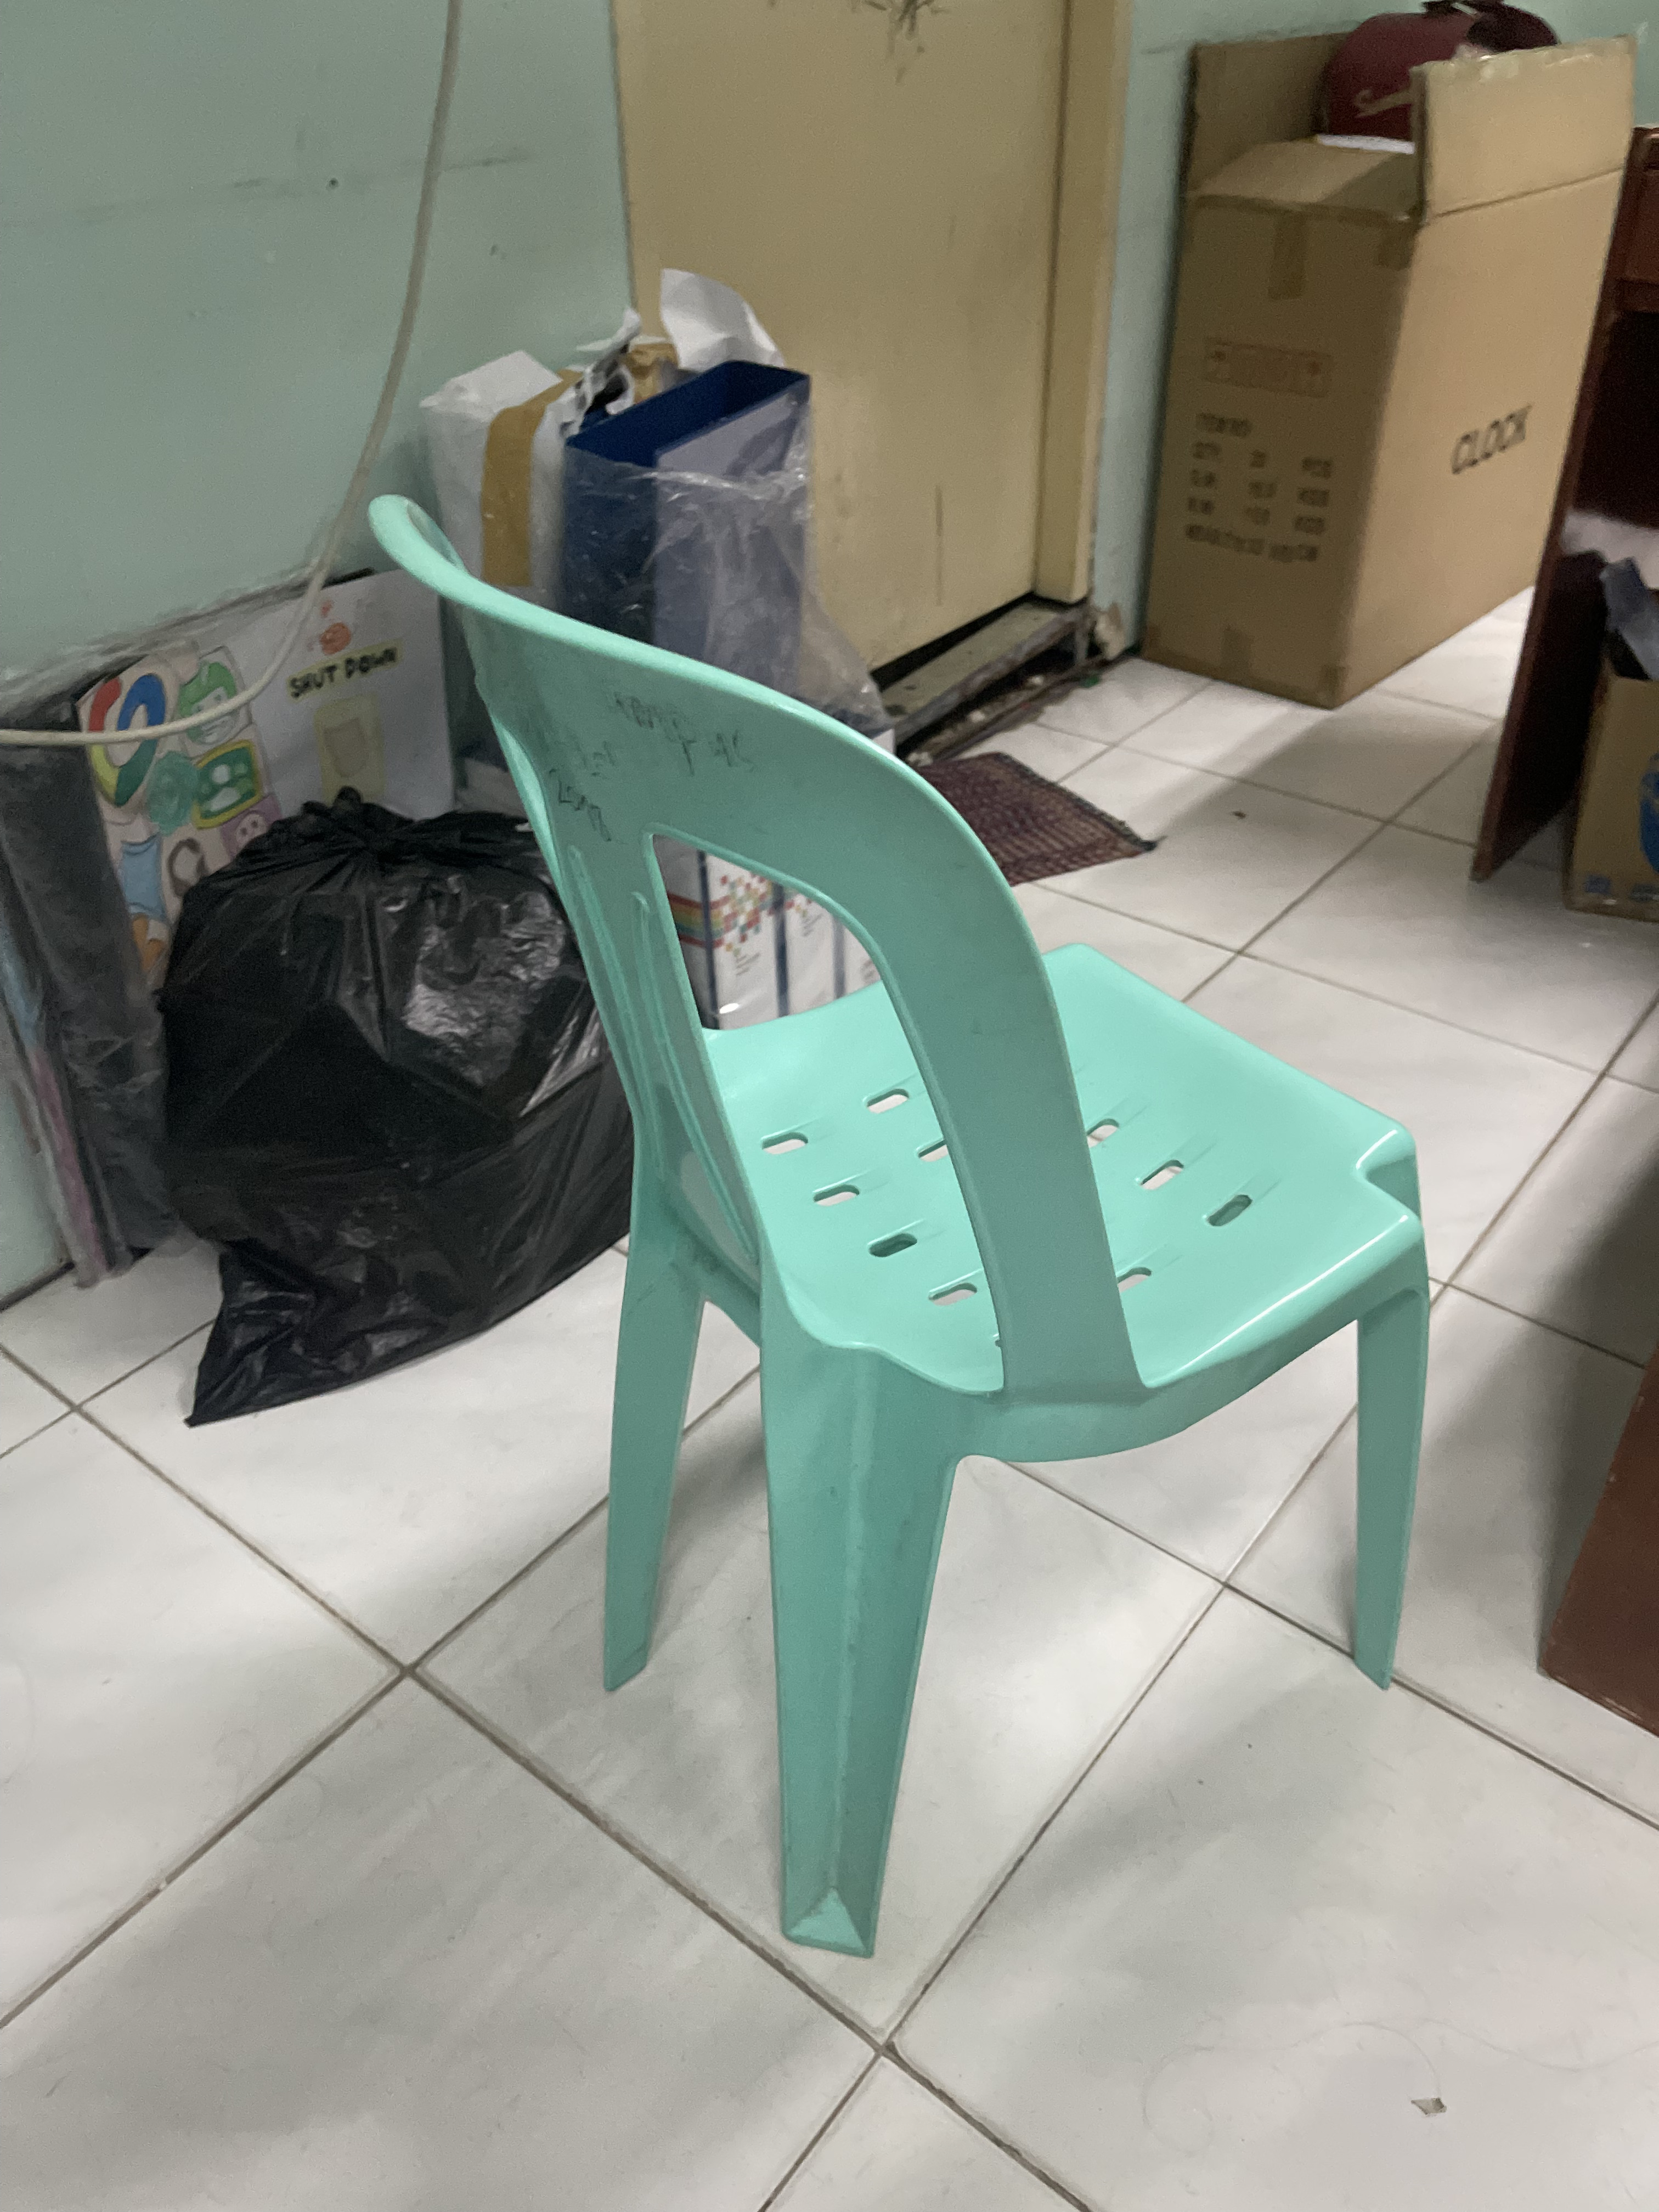chair2: (354, 481, 1445, 1965)
